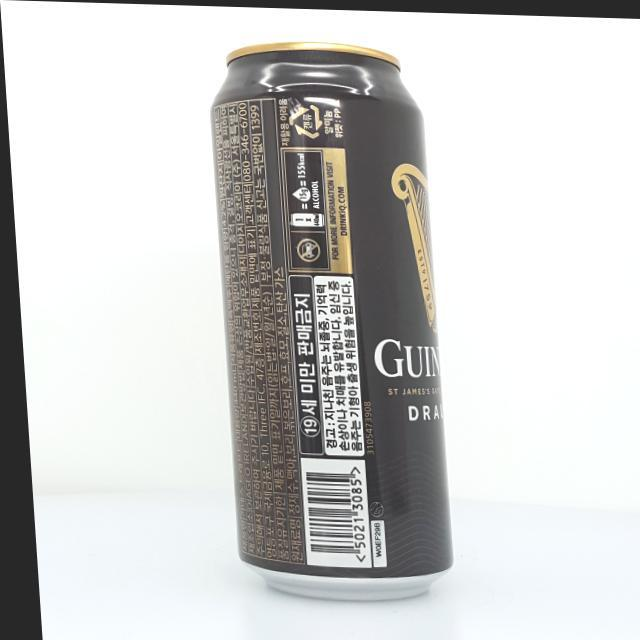beer-can: (203, 37, 448, 601)
